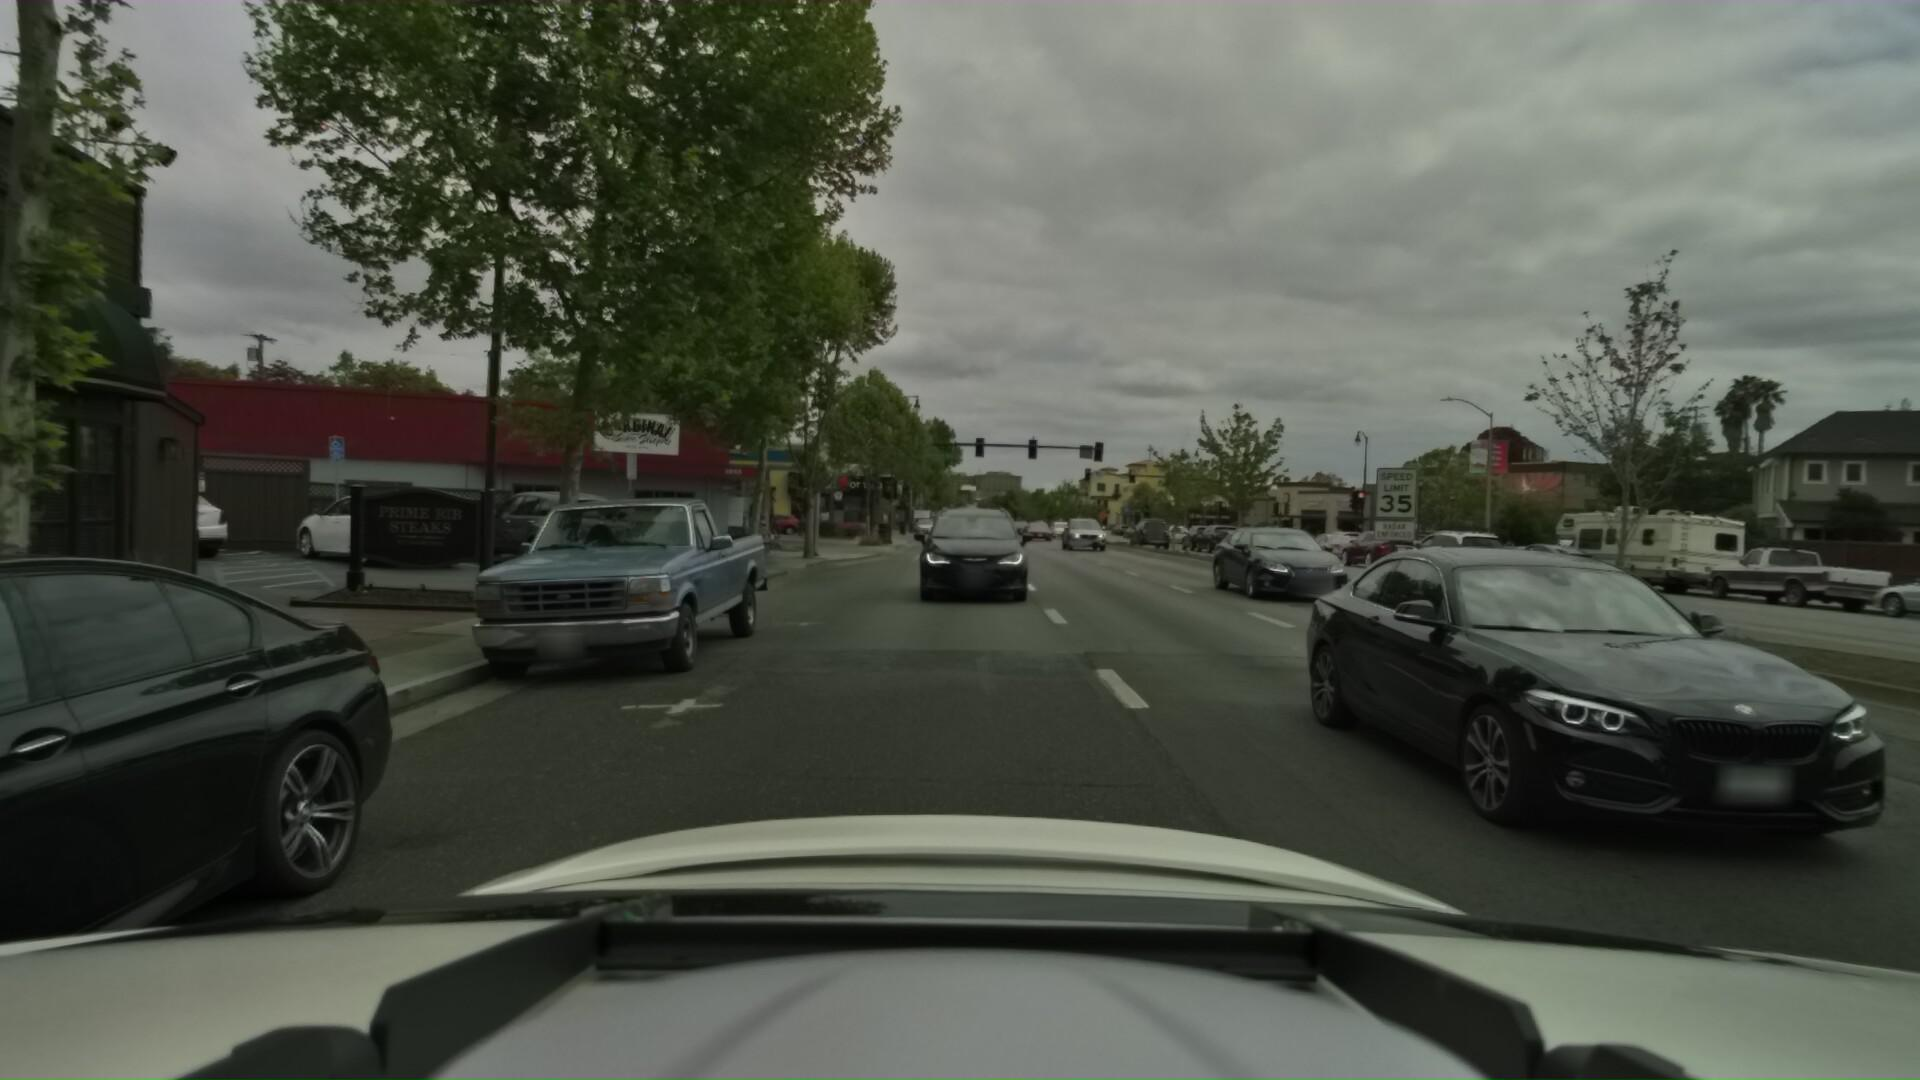bicycle: (745, 516, 786, 549)
car: (1269, 477, 1920, 890), (468, 481, 796, 695), (893, 493, 1046, 616), (1680, 521, 1884, 611), (472, 483, 669, 574), (1203, 498, 1364, 604), (79, 475, 268, 562), (311, 485, 497, 567), (1828, 547, 1920, 636), (1389, 517, 1513, 576), (1400, 512, 1513, 572), (1478, 533, 1589, 582), (1327, 520, 1420, 566), (1292, 521, 1361, 559), (1245, 516, 1309, 554), (1059, 509, 1109, 551), (1188, 516, 1242, 550), (1126, 512, 1188, 541), (1124, 509, 1171, 545), (1174, 516, 1224, 549), (746, 506, 806, 531), (1021, 508, 1055, 535)
other_vehicle: (1528, 487, 1745, 593)
